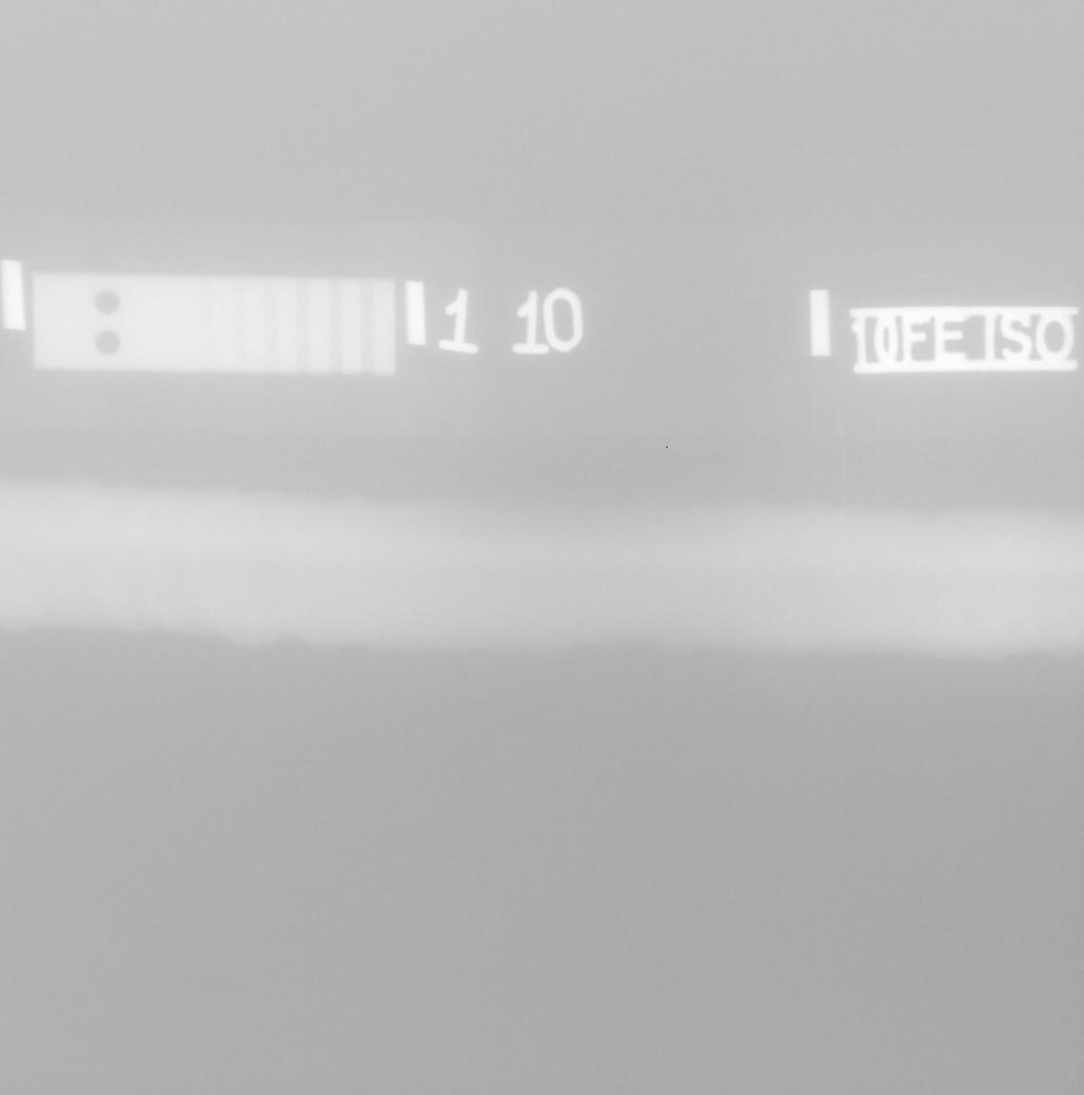Pore/Porosity: (843, 593, 848, 600)
Reference Standard 2: (33, 272, 396, 376)
